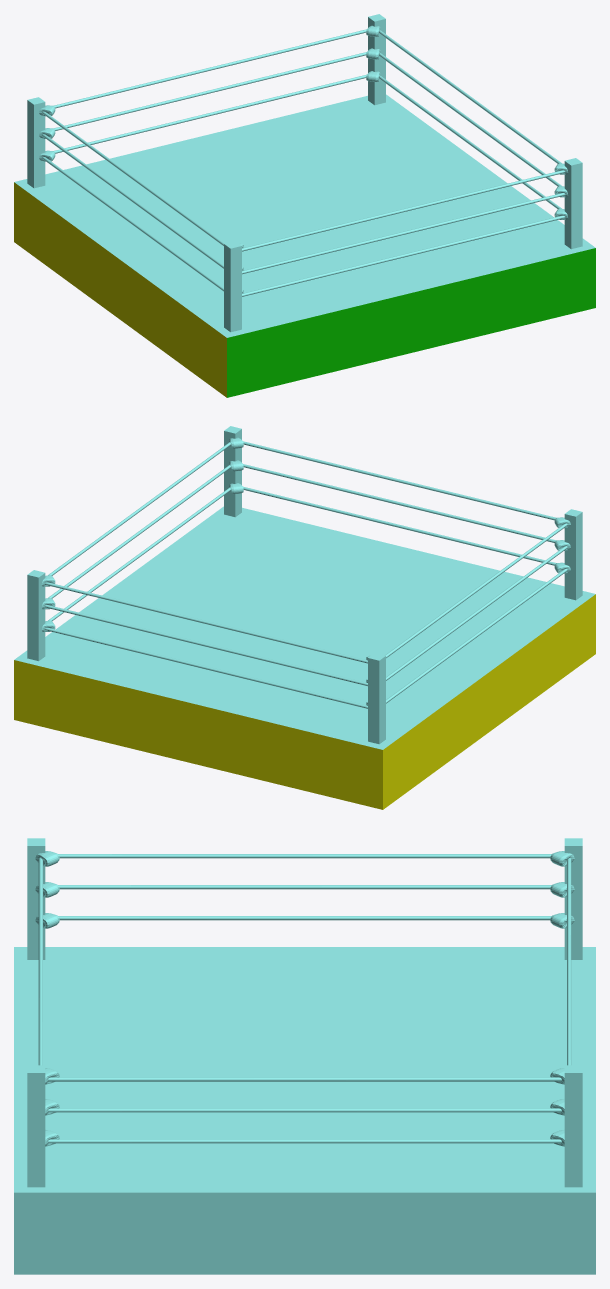
File: 2- MMW Ring.FBX
The picture shows the model from 3 angles, top to bottom: view 1: azimuth 30°, elevation 25°; view 2: azimuth 150°, elevation 25°; view 3: azimuth 270°, elevation 25°; orthographic projection. The views are drawn at different scales.
Parts seen in each view (by area): view 1: 2- MMW Ring; view 2: 2- MMW Ring; view 3: 2- MMW Ring.
Part boxes in pixels (x1,y1,x2,y2): 2- MMW Ring: [14, 14, 595, 397]; 2- MMW Ring: [14, 426, 595, 809]; 2- MMW Ring: [14, 838, 595, 1274].
Bounding box in the file's own units: 256 × 95.2 × 256.
